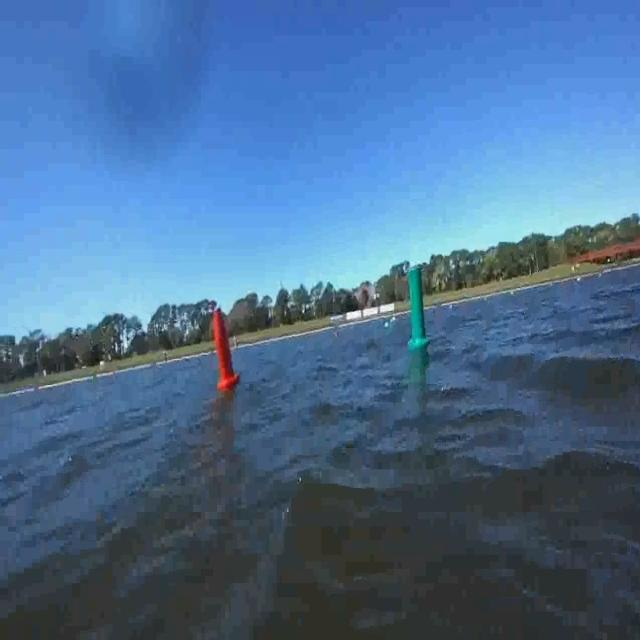green-column-buoy: (408, 267, 432, 351)
red-column-buoy: (212, 308, 240, 390)
